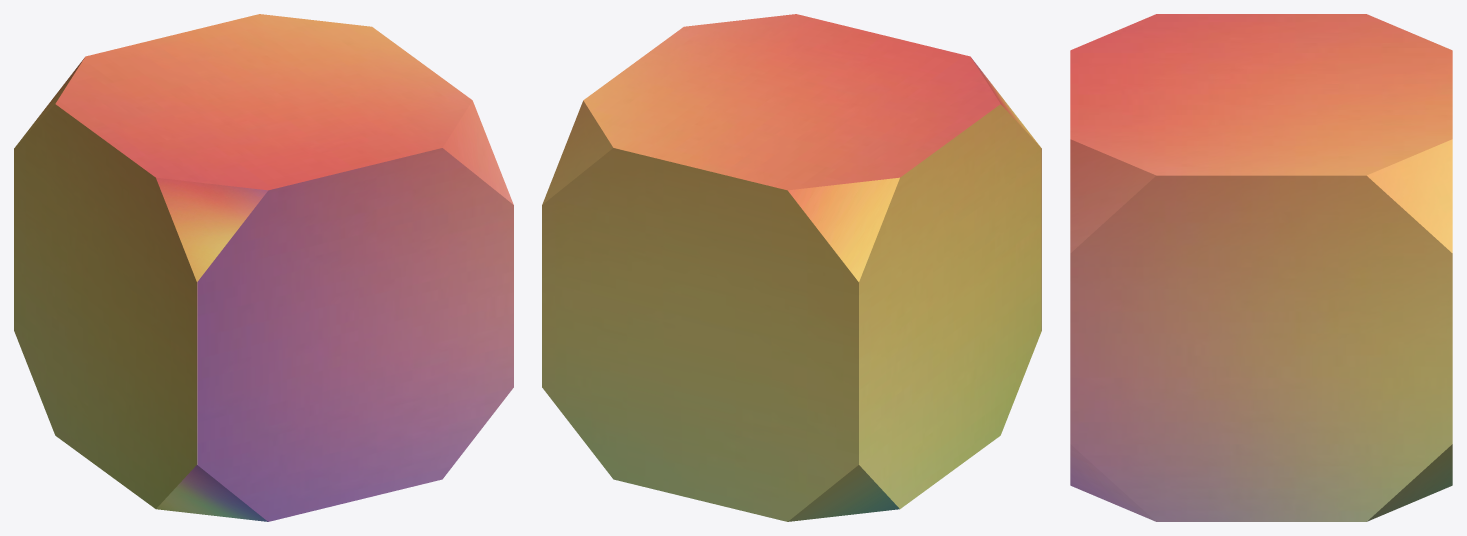
3 renders of one model, left to right at view 1: azimuth 30°, elevation 25°; view 2: azimuth 150°, elevation 25°; view 3: azimuth 270°, elevation 25°, orthographic. The views are drawn at different scales.
Parts seen in each view (by area): view 1: Cube; view 2: Cube; view 3: Cube.
Boxes of the visible parts, left/top/right/bottom form: Cube: left=14, top=14, right=513, bottom=521; Cube: left=542, top=14, right=1041, bottom=521; Cube: left=1070, top=14, right=1452, bottom=521.
Bounding box in the file's own units: 2 × 2 × 2.
Materials: 1 (1 with a texture image).
